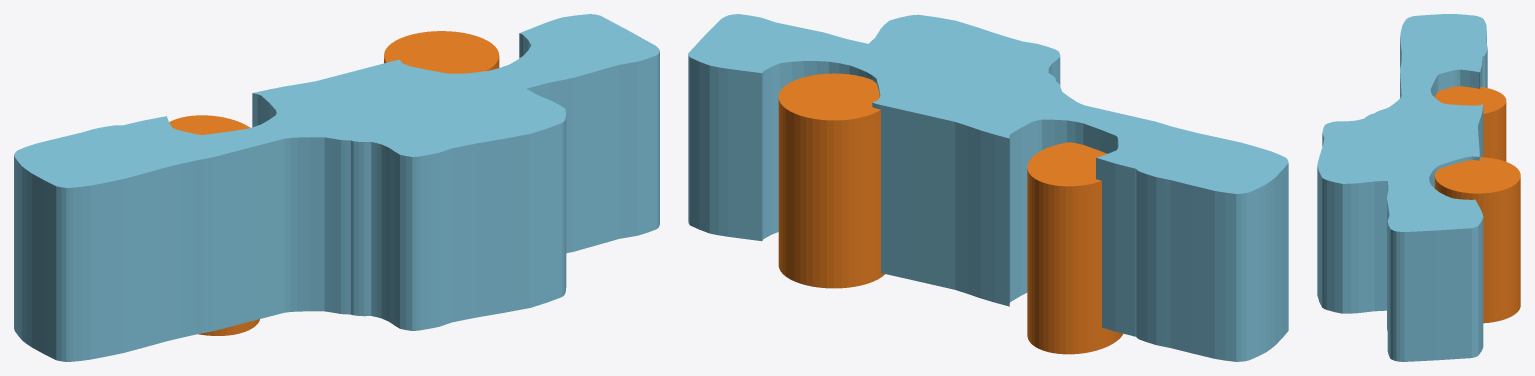
File: tinker.obj
3 views of the same model, side by side, from view 1: azimuth 30°, elevation 25°; view 2: azimuth 150°, elevation 25°; view 3: azimuth 270°, elevation 25° (orthographic). The views are drawn at different scales.
Parts seen in each view (by area): view 1: obj_0, obj_2, obj_1; view 2: obj_0, obj_2, obj_1; view 3: obj_0, obj_2, obj_1.
Boxes of the visible parts, x1=… form: obj_0: x1=14, y1=14, x2=659, y2=361; obj_2: x1=384, y1=31, x2=499, y2=73; obj_1: x1=169, y1=115, x2=259, y2=335; obj_0: x1=688, y1=14, x2=1288, y2=361; obj_2: x1=778, y1=73, x2=884, y2=288; obj_1: x1=1027, y1=142, x2=1122, y2=354; obj_0: x1=1317, y1=14, x2=1487, y2=361; obj_2: x1=1434, y1=157, x2=1520, y2=323; obj_1: x1=1434, y1=86, x2=1506, y2=161.
Size of the model in its own units: 36.02 by 11.28 by 14.2.
